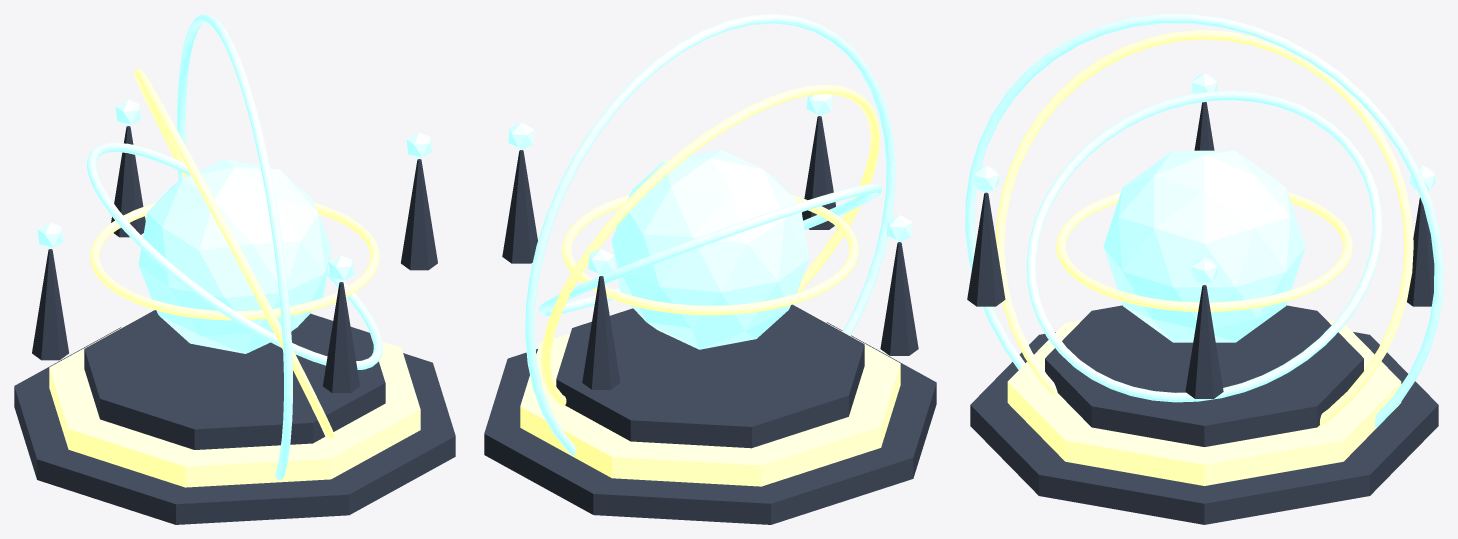
File: gpu-blender-v5.glb
3 views of the same model, side by side, from view 1: azimuth 30°, elevation 25°; view 2: azimuth 150°, elevation 25°; view 3: azimuth 270°, elevation 25° (orthographic). The views are drawn at different scales.
Parts seen in each view (by area): view 1: Cylinder.002, SovereignCore_zoth-os-website, Cylinder, Cylinder.001, Torus.003, Torus.001, Torus.002, Torus, Cone, Cone.002, Cone.003, Cone.001 (+4 smaller); view 2: Cylinder.002, SovereignCore_zoth-os-website, Cylinder, Cylinder.001, Torus.003, Torus.002, Torus, Torus.001, Cone.001, Cone.002, Cone, Cone.003 (+3 smaller); view 3: SovereignCore_zoth-os-website, Cylinder.002, Cylinder, Cylinder.001, Torus.001, Torus.003, Torus.002, Torus, Cone.003, Cone, Cone.001, Cone.002 (+2 smaller).
Part boxes in pixels (x1=…): Cylinder.002: x1=84, y1=310, x2=385, y2=449; SovereignCore_zoth-os-website: x1=138, y1=159, x2=331, y2=353; Cylinder: x1=14, y1=327, x2=455, y2=524; Cylinder.001: x1=49, y1=318, x2=420, y2=487; Torus.003: x1=177, y1=14, x2=292, y2=480; Torus.001: x1=87, y1=142, x2=382, y2=369; Torus.002: x1=134, y1=69, x2=334, y2=438; Torus: x1=90, y1=203, x2=379, y2=320; Cone: x1=401, y1=159, x2=437, y2=270; Cone.002: x1=32, y1=249, x2=68, y2=360; Cone.003: x1=323, y1=282, x2=359, y2=392; Cone.001: x1=111, y1=126, x2=145, y2=237; Cylinder.002: x1=556, y1=304, x2=864, y2=448; SovereignCore_zoth-os-website: x1=611, y1=150, x2=809, y2=349; Cylinder: x1=484, y1=322, x2=936, y2=524; Cylinder.001: x1=520, y1=313, x2=900, y2=486; Torus.003: x1=525, y1=14, x2=895, y2=455; Torus.002: x1=541, y1=84, x2=879, y2=406; Torus: x1=562, y1=195, x2=858, y2=315; Torus.001: x1=539, y1=183, x2=881, y2=315; Cone.001: x1=582, y1=276, x2=620, y2=389; Cone.002: x1=880, y1=242, x2=918, y2=355; Cone: x1=502, y1=150, x2=537, y2=263; Cone.003: x1=802, y1=116, x2=835, y2=229; SovereignCore_zoth-os-website: x1=1103, y1=150, x2=1305, y2=342; Cylinder.002: x1=1045, y1=305, x2=1363, y2=446; Cylinder: x1=970, y1=332, x2=1438, y2=524; Cylinder.001: x1=1007, y1=320, x2=1401, y2=485; Torus.001: x1=1026, y1=91, x2=1382, y2=402; Torus.003: x1=965, y1=14, x2=1443, y2=427; Torus.002: x1=995, y1=30, x2=1413, y2=426; Torus: x1=1056, y1=192, x2=1352, y2=311; Cone.003: x1=967, y1=192, x2=1005, y2=306; Cone: x1=1185, y1=285, x2=1223, y2=398; Cone.001: x1=1407, y1=197, x2=1434, y2=306; Cone.002: x1=1194, y1=102, x2=1214, y2=150.
Size of the model in its own units: 4.41 by 4.7 by 4.49.
